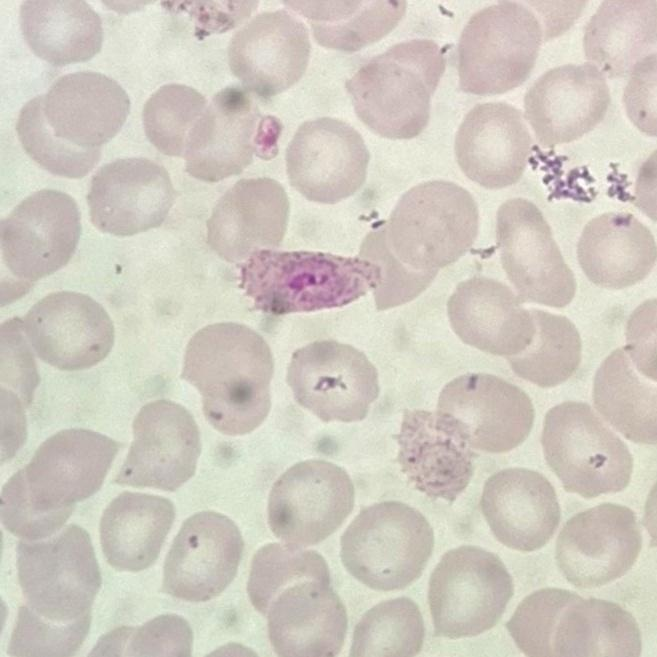Infected: (238, 247, 380, 313), (393, 407, 475, 497)
Uninfected: (1, 426, 119, 535), (15, 71, 128, 178), (179, 320, 275, 435), (345, 38, 446, 139), (382, 180, 478, 279), (490, 197, 575, 308), (9, 523, 101, 625), (540, 403, 634, 500), (508, 588, 637, 656), (180, 90, 272, 183), (337, 500, 433, 589), (454, 2, 543, 96), (116, 400, 203, 496), (434, 372, 533, 455), (263, 460, 354, 547), (286, 338, 378, 424), (426, 548, 512, 638), (20, 289, 113, 372), (357, 223, 441, 313), (1, 189, 80, 284), (161, 508, 243, 599), (225, 10, 312, 95), (454, 98, 533, 191), (203, 176, 287, 263), (283, 117, 367, 203), (553, 501, 639, 585), (247, 538, 337, 618), (446, 278, 535, 357), (523, 63, 607, 146), (87, 157, 174, 237), (479, 468, 560, 549), (501, 311, 582, 391), (575, 210, 656, 289), (264, 580, 346, 656), (99, 492, 175, 573), (19, 0, 101, 66), (582, 0, 654, 75), (140, 82, 208, 159)
